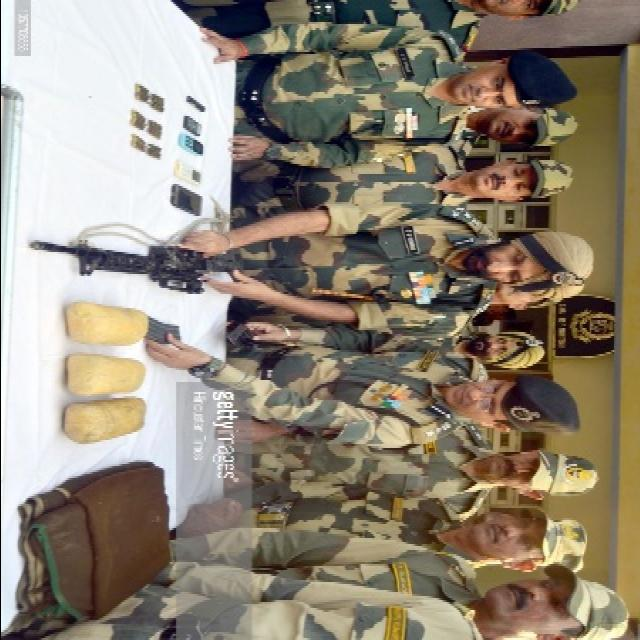rifle: (33, 223, 257, 281)
